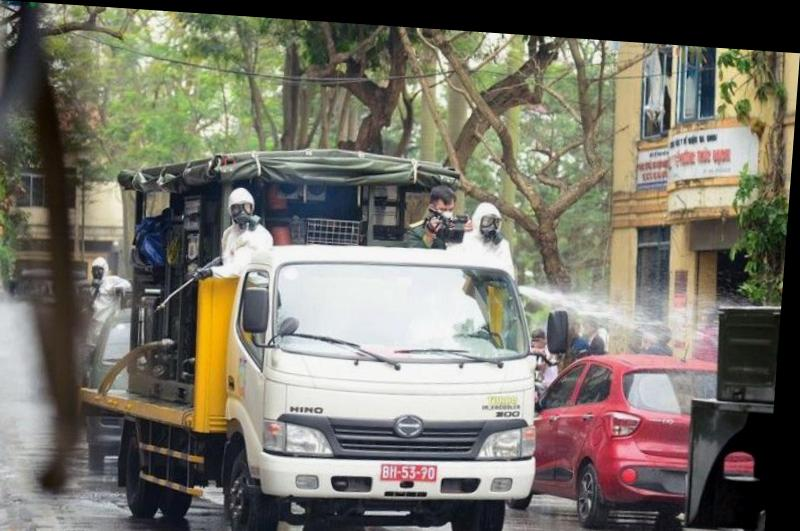License_Plate: (378, 463, 441, 486)
